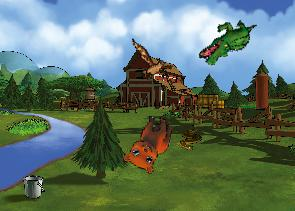bear: (120, 109, 175, 176)
crocodile: (196, 7, 258, 76)
eagle: (122, 38, 177, 86)
